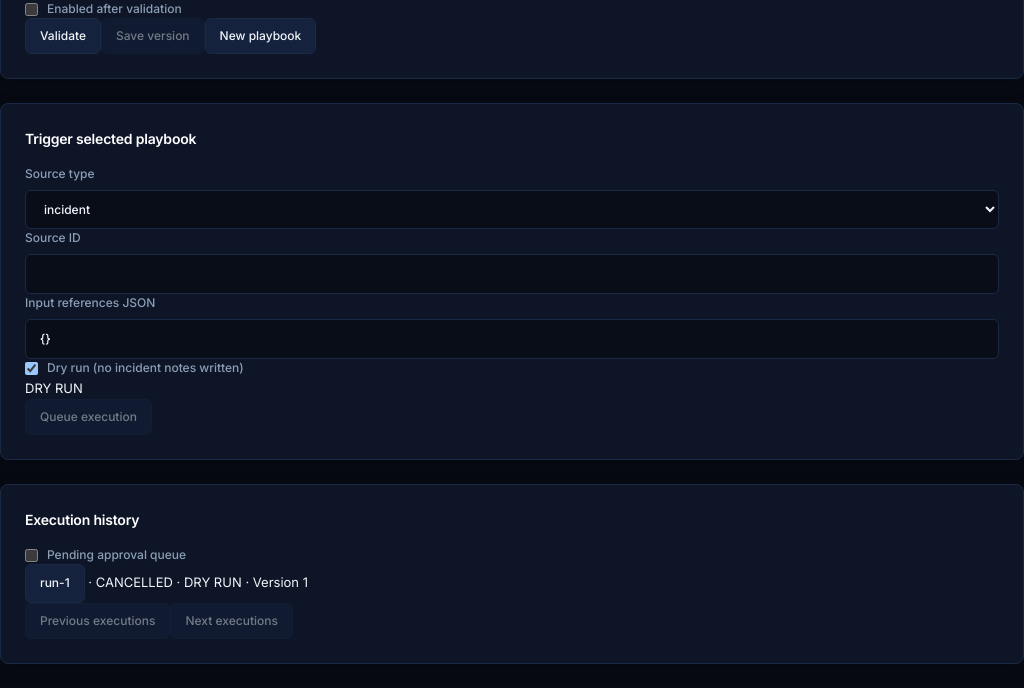
Scenario: keeps cancellation unavailable for terminal executions
(page scrolled)
What coordinates should you click on to do the following:
click the button "run-1"
I would click on:
 (55, 584)
Its box is top-left (25, 564), bottom-right (85, 603).
(page scrolled)
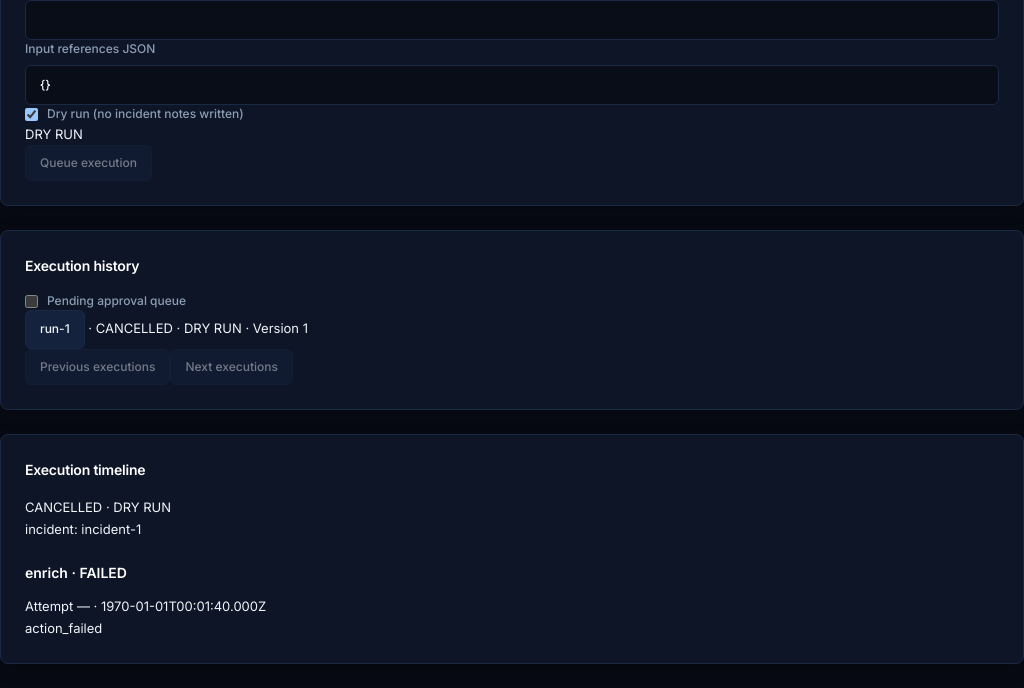
Result: the heading "Execution timeline" is shown at top-left (25, 461), bottom-right (146, 478)
